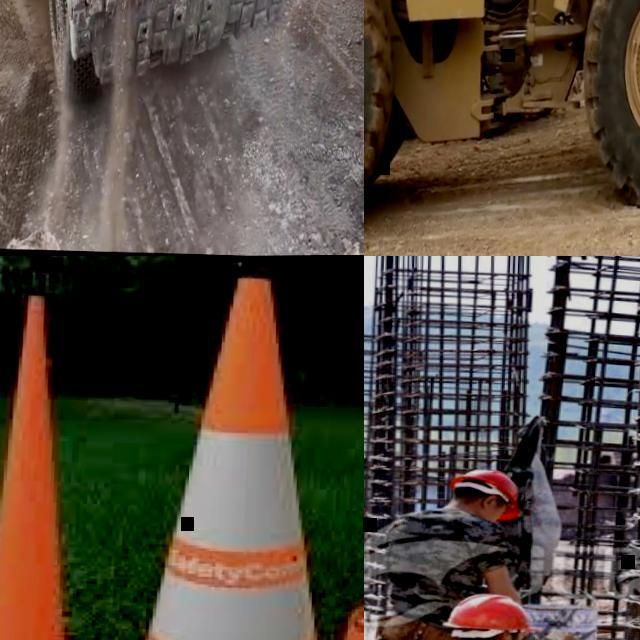Helmet: (433, 587, 566, 640), (453, 463, 527, 518)
Robbery: (370, 453, 530, 638), (448, 592, 534, 640)
